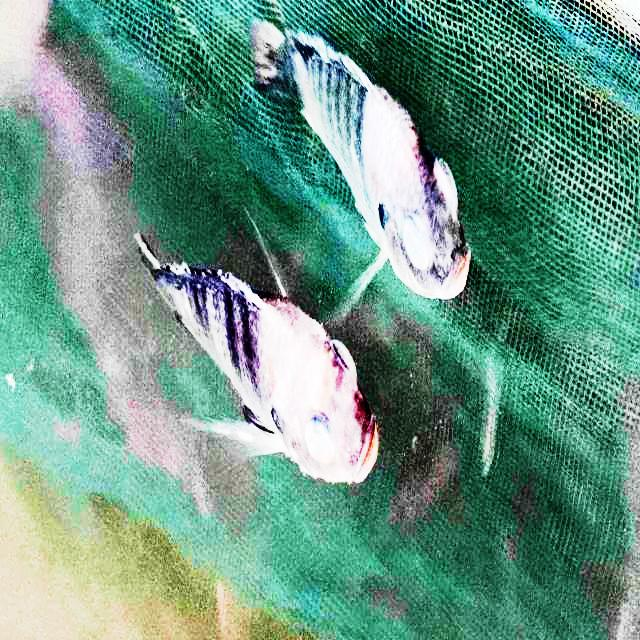Columnaris Disease: (251, 22, 470, 299), (140, 239, 377, 482)
